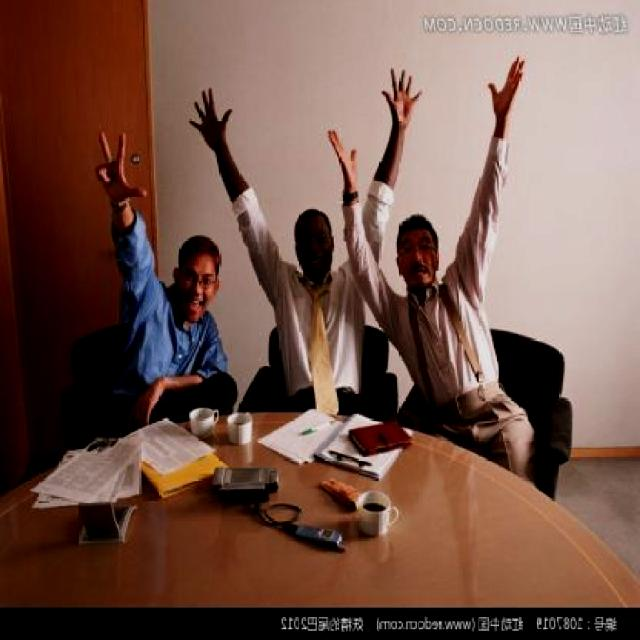face_nomask: (172, 263, 220, 329), (396, 232, 442, 291), (294, 226, 334, 282)
hand_noglove: (92, 132, 148, 205), (186, 86, 237, 146), (383, 64, 425, 134), (484, 54, 528, 118), (125, 372, 169, 434), (326, 123, 360, 195)
head_nohelmet: (174, 232, 226, 266), (395, 209, 437, 245), (289, 203, 331, 232)
person: (389, 213, 508, 453), (253, 198, 384, 416), (105, 236, 229, 459)
